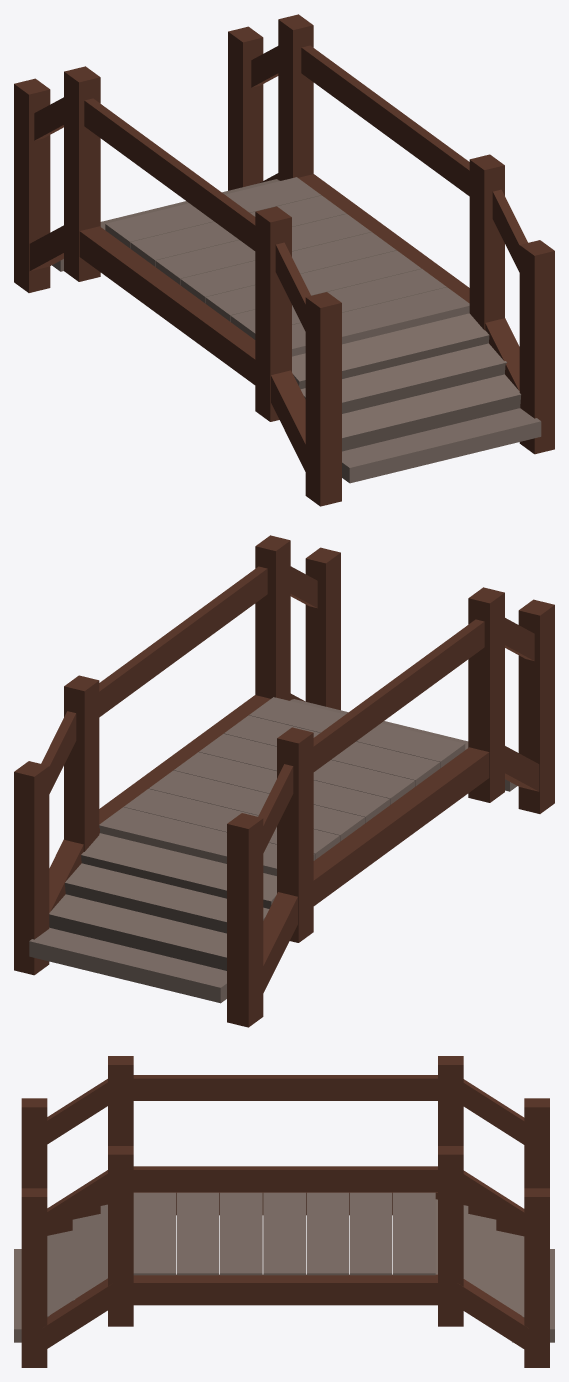
File: Bridge.gltf
3 views of the same model, one above another, from view 1: azimuth 30°, elevation 25°; view 2: azimuth 150°, elevation 25°; view 3: azimuth 270°, elevation 25° (orthographic). The views are drawn at different scales.
Parts seen in each view (by area): view 1: node-0; view 2: node-0; view 3: node-0.
Boxes of the visible parts, bbox=[...] form: node-0: bbox=[14, 14, 554, 506]; node-0: bbox=[14, 535, 554, 1027]; node-0: bbox=[14, 1056, 554, 1367].
Bounding box in the file's own units: 28.02 × 28.2 × 64.82.
